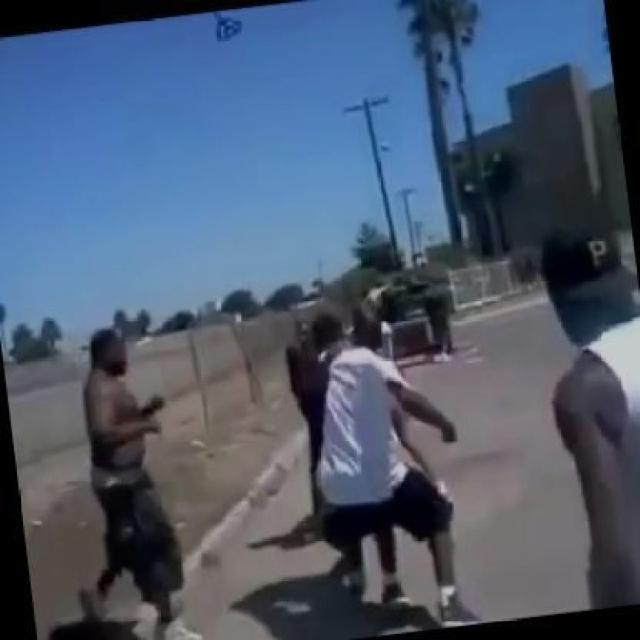fight: (269, 283, 511, 634)
non-fight: (68, 322, 217, 640)
